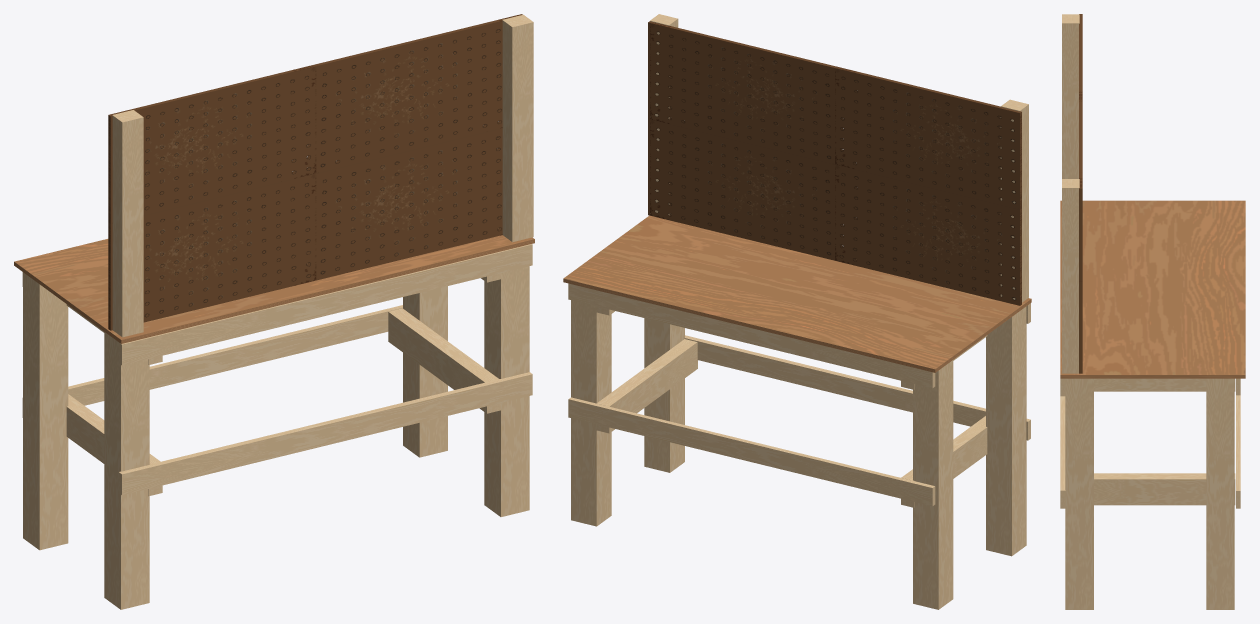
Rendered from Workbench.fbx.
3 views of the same model, side by side, from view 1: azimuth 30°, elevation 25°; view 2: azimuth 150°, elevation 25°; view 3: azimuth 270°, elevation 25° (orthographic). The views are drawn at different scales.
Visible parts, largest first — view 1: Work_Bench_Frame, Workbench_Peg_Board, WorkBench_Top; view 2: Workbench_Peg_Board, Work_Bench_Frame, WorkBench_Top; view 3: WorkBench_Top, Work_Bench_Frame, Workbench_Peg_Board.
Part boxes in pixels (x1,y1,x2,y2): Work_Bench_Frame: [22, 14, 533, 609]; Workbench_Peg_Board: [108, 14, 522, 330]; WorkBench_Top: [14, 228, 534, 343]; Workbench_Peg_Board: [648, 21, 1021, 305]; Work_Bench_Frame: [568, 14, 1030, 609]; WorkBench_Top: [563, 215, 1031, 372]; WorkBench_Top: [1060, 200, 1245, 378]; Work_Bench_Frame: [1060, 14, 1240, 609]; Workbench_Peg_Board: [1079, 14, 1082, 373].
Size of the model in its own units: 145 by 163 by 64.9.
Materials: 3 (3 with a texture image).
